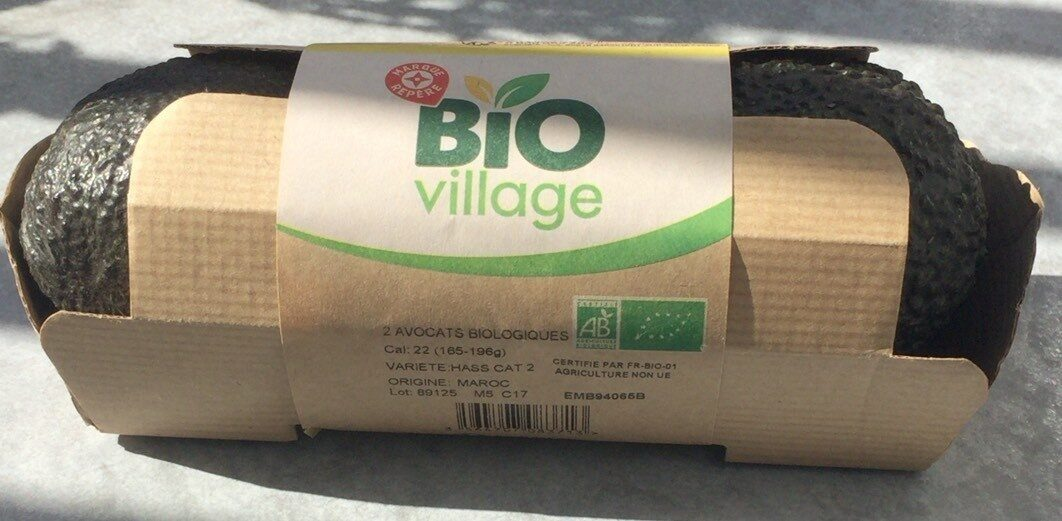Avocats: (53, 26, 1009, 495)
